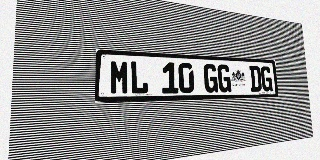0: (178, 63, 194, 93)
1: (162, 62, 178, 94)
D: (249, 66, 262, 92)
G: (203, 64, 218, 93), (217, 64, 231, 92), (260, 66, 273, 91)
L: (130, 61, 148, 94)
M: (110, 60, 129, 95)
